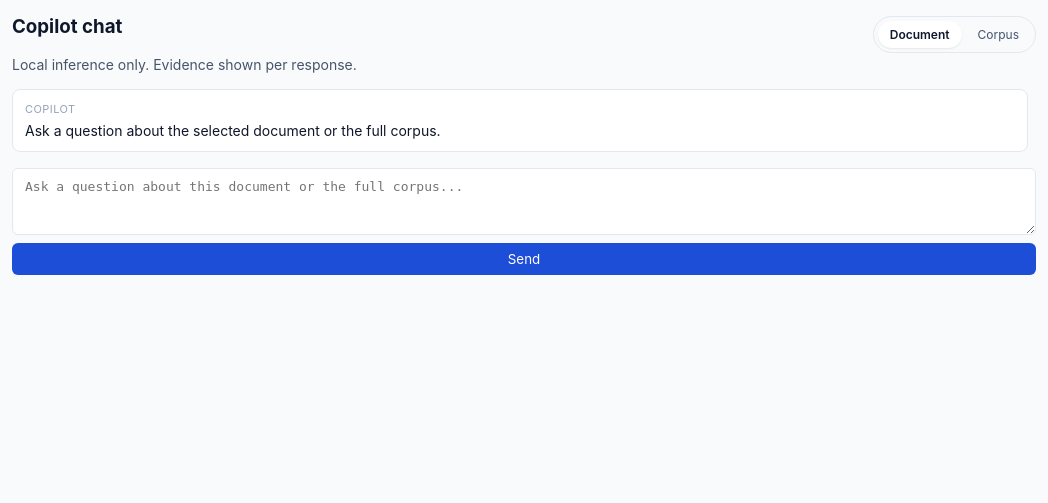
Test: CopilotChat › sends on Enter key
The width and height of the screenshot is (1048, 503).
In the text box: {"x": 524, "y": 202} [12,168,1036,235], type "Show totals"
Then press Enter
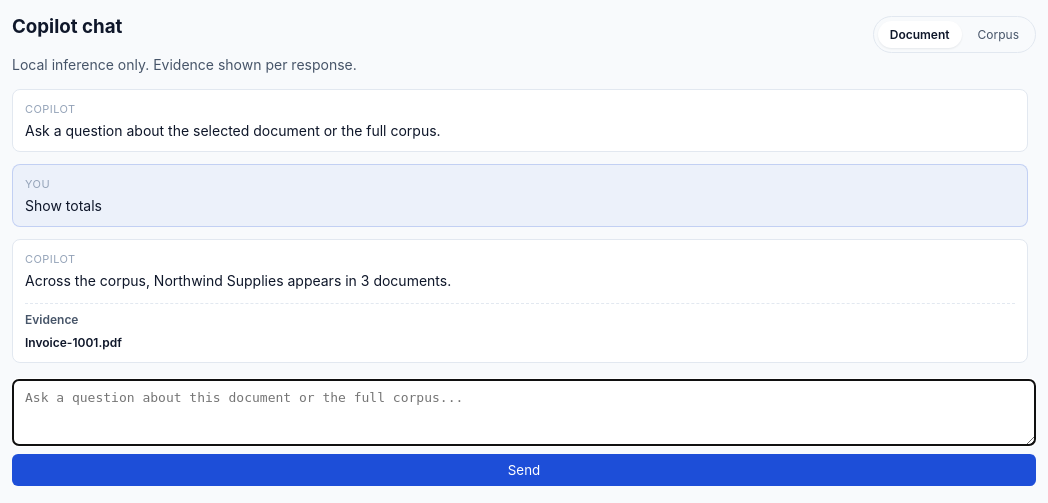
Expected: the text "Evidence" is shown, [25,312,78,327]
